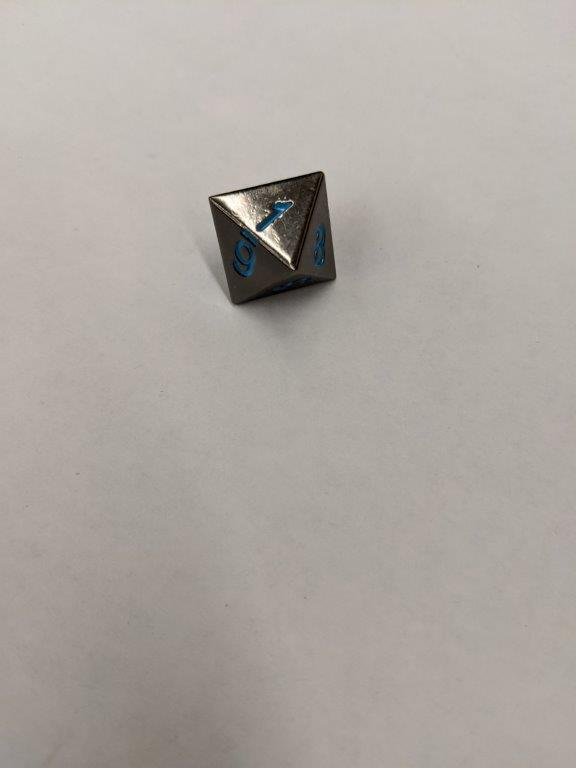d8-1: (208, 170, 340, 307)
